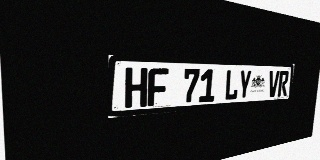1: (199, 69, 216, 103)
7: (182, 69, 200, 104)
F: (147, 68, 169, 106)
H: (125, 67, 148, 108)
L: (224, 70, 239, 101)
R: (277, 71, 289, 97)
V: (267, 70, 280, 97)
Y: (238, 70, 252, 100)
